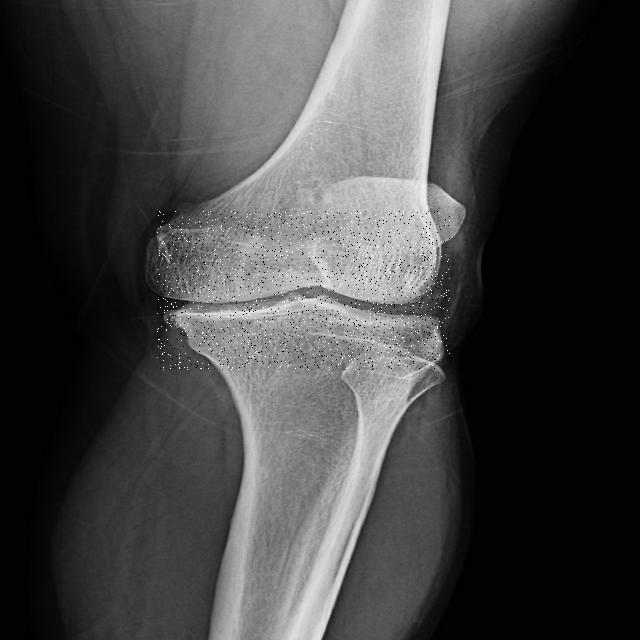osteo: (157, 211, 450, 370)
